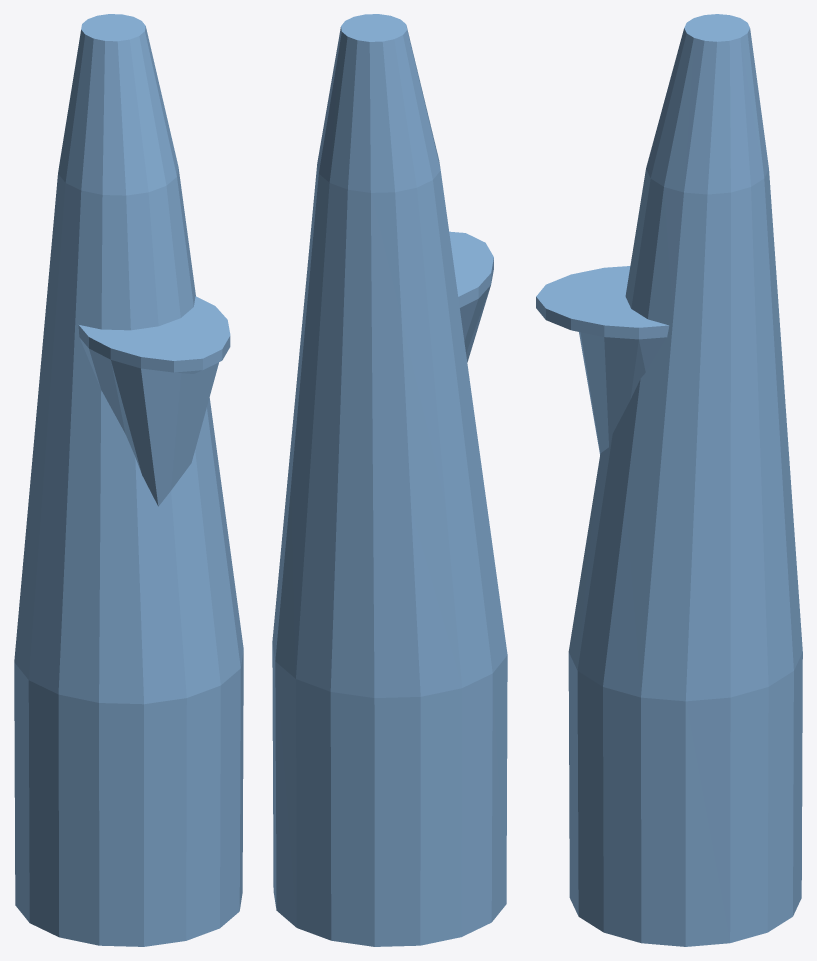
Rendered from bitexco.glb.
3 renders of one model, left to right at view 1: azimuth 30°, elevation 25°; view 2: azimuth 150°, elevation 25°; view 3: azimuth 270°, elevation 25°, orthographic. The views are drawn at different scales.
Visible parts, largest first — view 1: Circle; view 2: Circle; view 3: Circle.
Boxes of the visible parts, left/top/right/bottom form: Circle: left=14, top=14, right=243, bottom=946; Circle: left=272, top=14, right=507, bottom=946; Circle: left=536, top=14, right=802, bottom=946.
Bounding box in the file's own units: 1.68 × 6.89 × 1.91.
